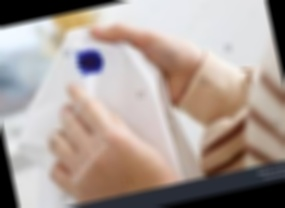ink: (74, 47, 106, 79)
